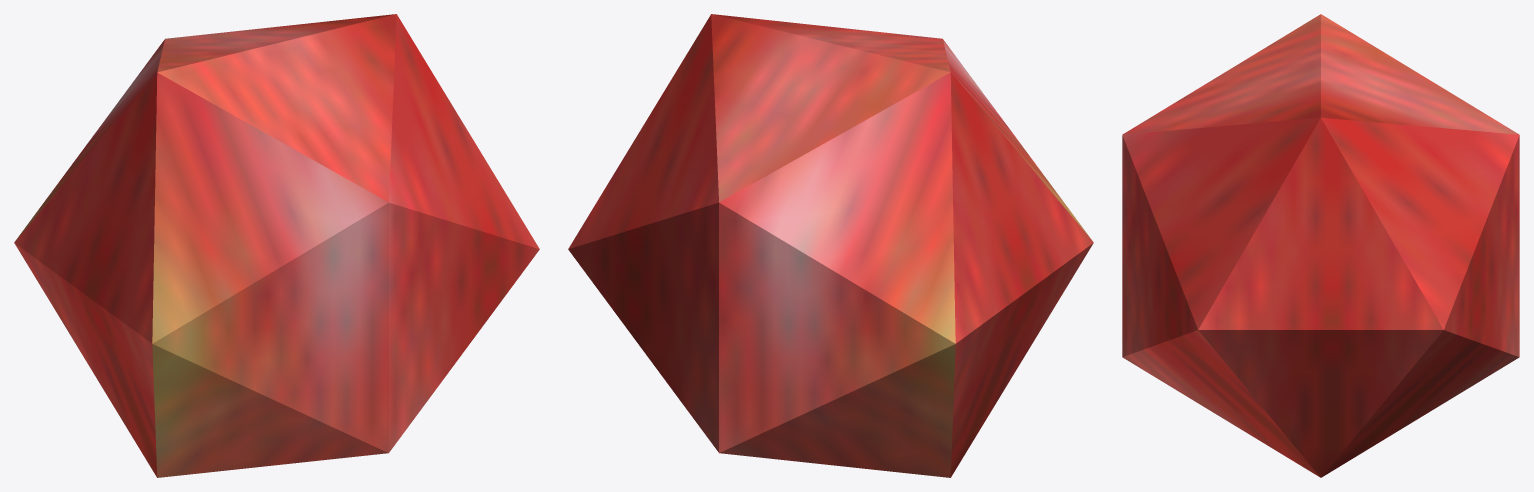
The model's file is apple.obj.
3 renders of one model, left to right at view 1: azimuth 30°, elevation 25°; view 2: azimuth 150°, elevation 25°; view 3: azimuth 270°, elevation 25°, orthographic. The views are drawn at different scales.
Visible parts, largest first — view 1: apple; view 2: apple; view 3: apple.
Boxes of the visible parts, x1,y1,x2,y2 form: apple: [14, 14, 539, 477]; apple: [568, 14, 1093, 477]; apple: [1122, 14, 1519, 477].
Size of the model in its own units: 0.411 by 0.411 by 0.411.
